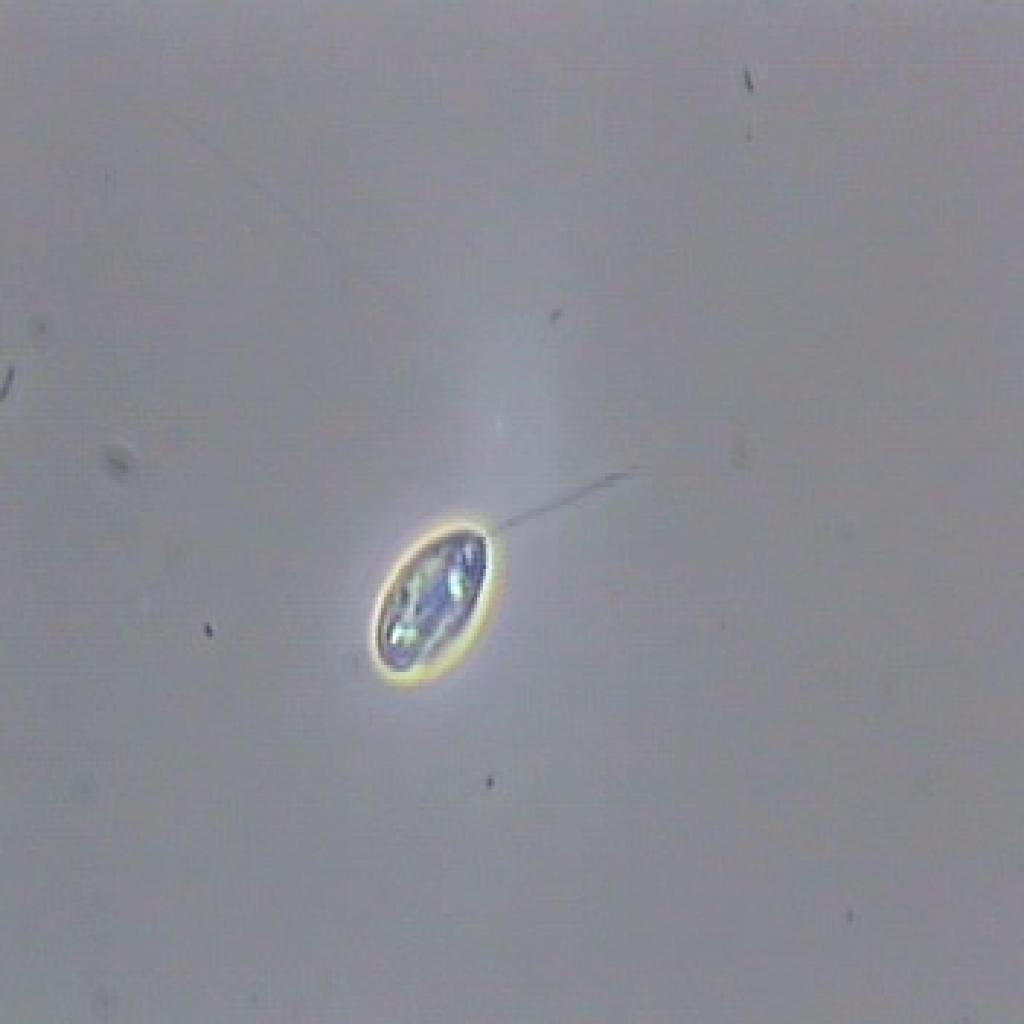Flagellates: (340, 487, 611, 686)
